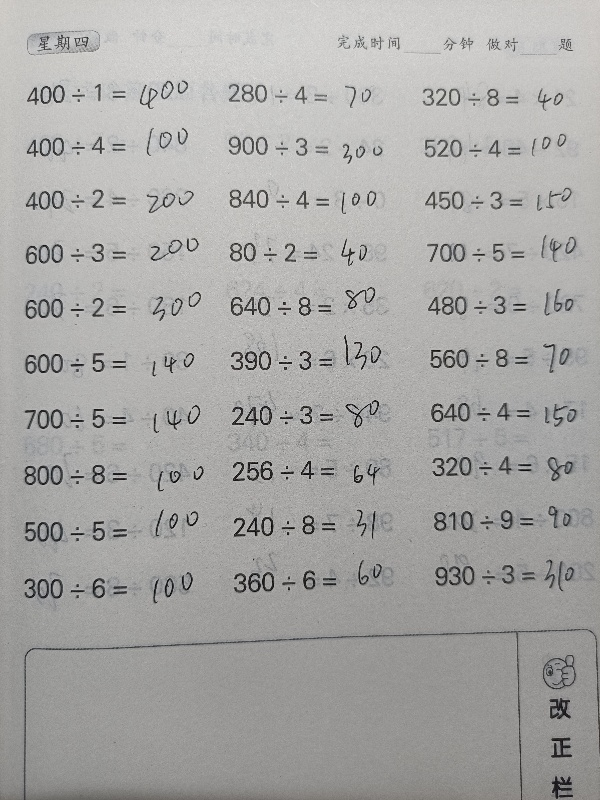equation: (225, 549, 405, 599), (223, 328, 403, 378), (425, 549, 600, 596), (220, 182, 400, 222), (15, 570, 195, 607), (223, 397, 403, 434), (15, 513, 195, 549), (224, 507, 404, 543), (16, 457, 196, 493), (15, 344, 195, 380), (16, 289, 196, 325), (415, 128, 595, 164), (424, 501, 600, 537), (223, 452, 403, 487), (16, 401, 196, 436), (222, 289, 402, 324), (419, 288, 599, 323), (16, 235, 196, 270), (221, 235, 401, 270), (16, 182, 196, 217), (219, 128, 399, 163), (18, 75, 198, 110), (422, 395, 600, 430), (424, 449, 600, 484), (419, 236, 599, 270), (417, 184, 597, 218), (17, 129, 197, 163), (414, 81, 594, 115), (219, 77, 399, 111), (421, 341, 600, 375)
